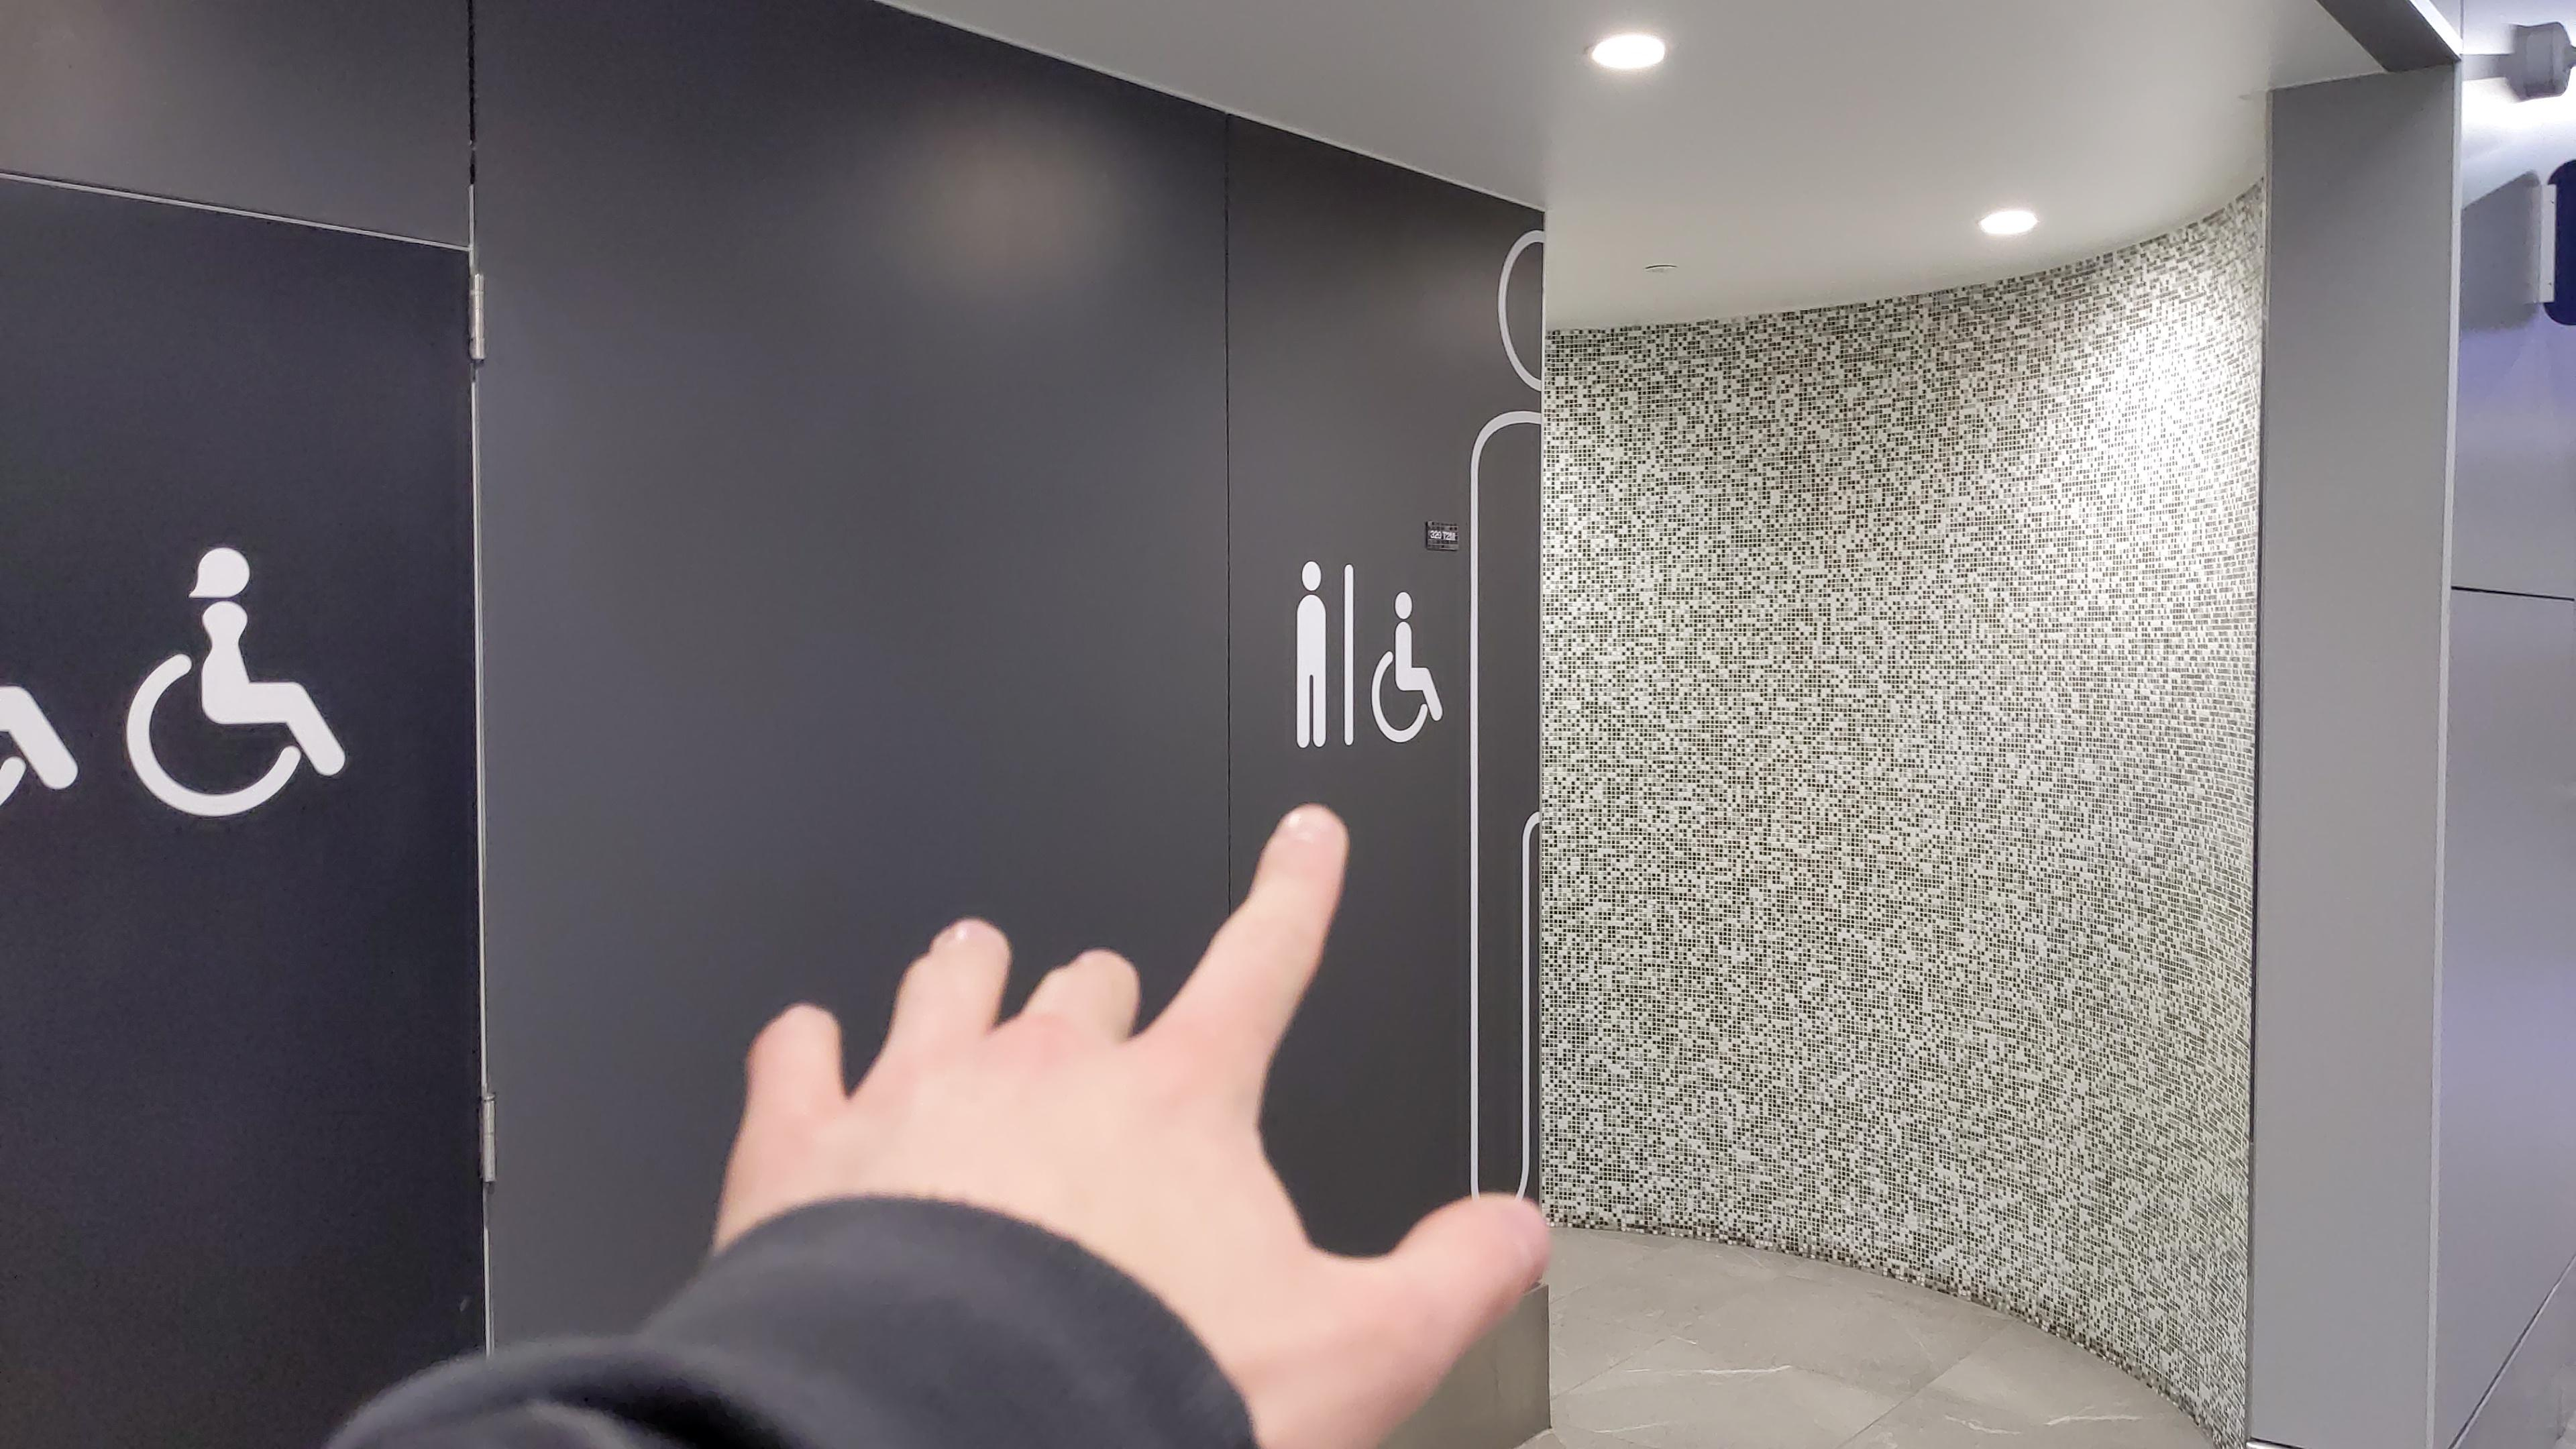handicapped symbol: (117, 543, 357, 823), (1368, 589, 1447, 745)
